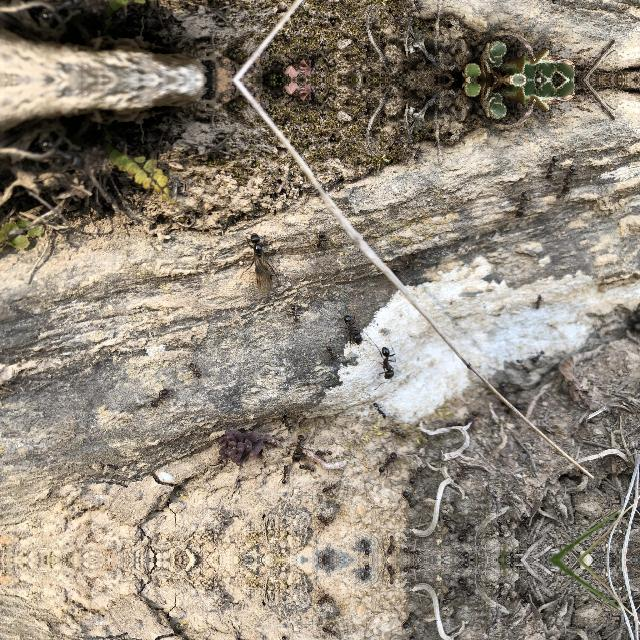Messor: (230, 230, 288, 304), (374, 344, 404, 394), (306, 218, 336, 266), (366, 450, 404, 482), (333, 307, 365, 343), (276, 291, 308, 325), (286, 432, 310, 468), (181, 360, 215, 384), (529, 282, 549, 318), (512, 190, 534, 220), (320, 344, 346, 368), (561, 161, 577, 197), (455, 519, 475, 543), (455, 577, 475, 601), (152, 383, 168, 411), (313, 510, 333, 530), (313, 590, 333, 610), (540, 154, 556, 178), (316, 478, 340, 494), (315, 625, 340, 640), (368, 402, 388, 420), (436, 516, 456, 534), (436, 586, 456, 604), (405, 462, 421, 483), (358, 534, 372, 556), (358, 564, 372, 586), (399, 492, 418, 508), (399, 612, 418, 628), (385, 535, 397, 559), (385, 561, 397, 585), (392, 428, 412, 442), (283, 411, 297, 431), (316, 448, 336, 459), (310, 549, 330, 559), (310, 561, 330, 571), (301, 464, 315, 478), (492, 522, 506, 536), (492, 584, 506, 598), (282, 466, 292, 484), (540, 0, 556, 6), (281, 636, 292, 640)
